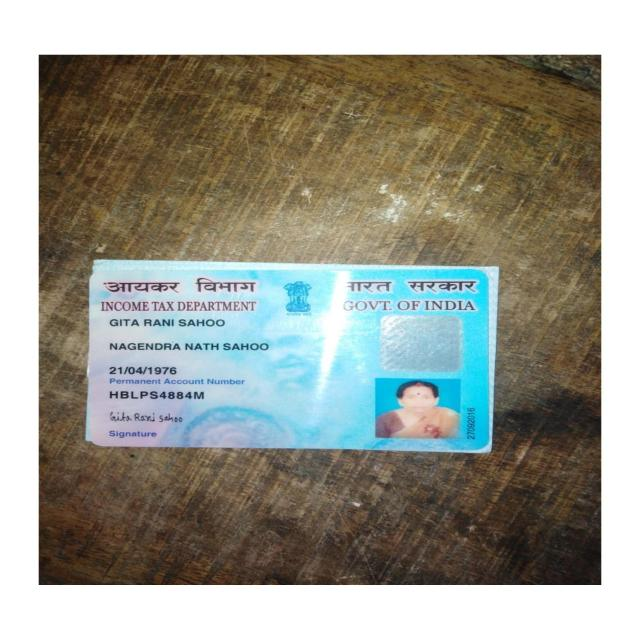pan_card: (88, 262, 487, 451)
